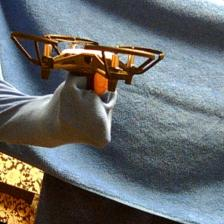drone: (8, 26, 166, 89)
